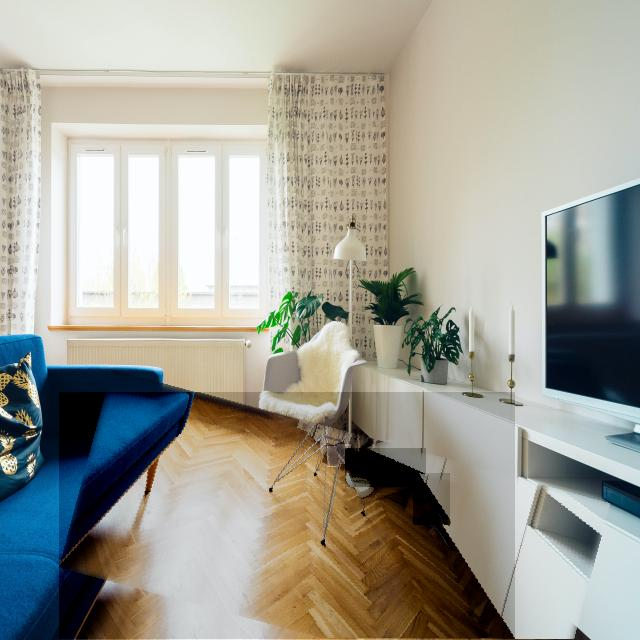floor: (59, 393, 515, 639), (345, 449, 426, 487), (413, 474, 450, 525), (337, 444, 351, 464), (327, 446, 339, 467)
